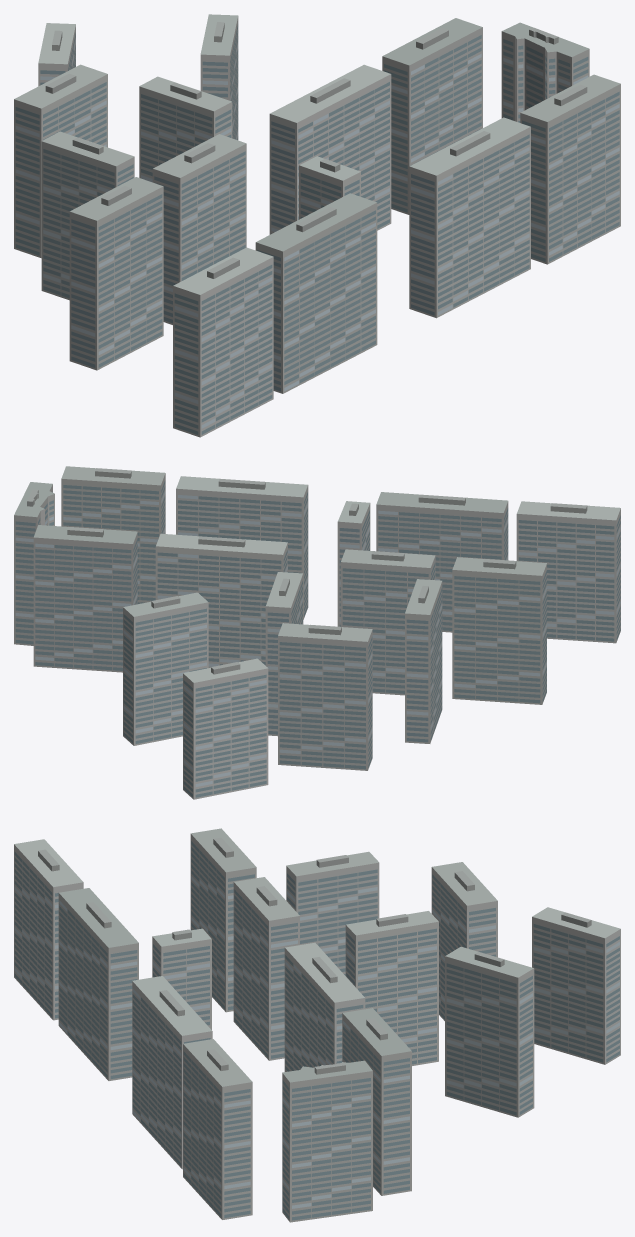
The model's file is apt-a13204406.glb.
3 views of the same model, one above another, from view 1: azimuth 30°, elevation 25°; view 2: azimuth 150°, elevation 25°; view 3: azimuth 270°, elevation 25° (orthographic). The views are drawn at different scales.
Parts seen in each view (by area): view 1: apt-a13204406; view 2: apt-a13204406; view 3: apt-a13204406.
Part boxes in pixels (x1,y1,x2,y2): apt-a13204406: [14, 14, 620, 437]; apt-a13204406: [14, 466, 620, 799]; apt-a13204406: [14, 828, 620, 1222].
Bounding box in the file's own units: 244 × 65 × 246.
